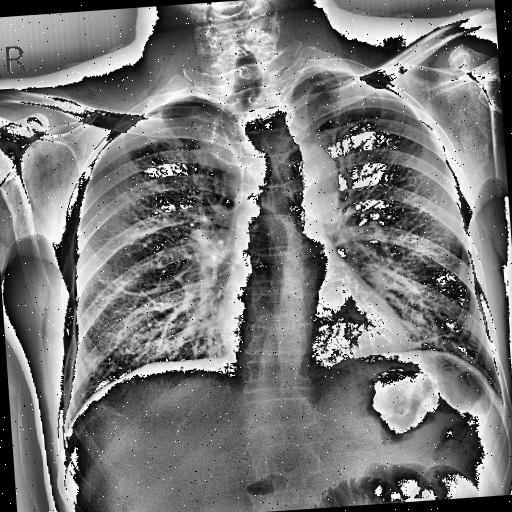0- Aortic enlargement: (267, 138, 342, 216), (282, 138, 342, 230), (278, 140, 344, 214)
11- Pleural thickening: (150, 92, 208, 108), (294, 67, 332, 80)
13- Pulmonary fibrosis: (414, 330, 451, 348)
7- Lung Opacity: (234, 80, 303, 160)
9- Other lesion: (212, 82, 278, 184)
